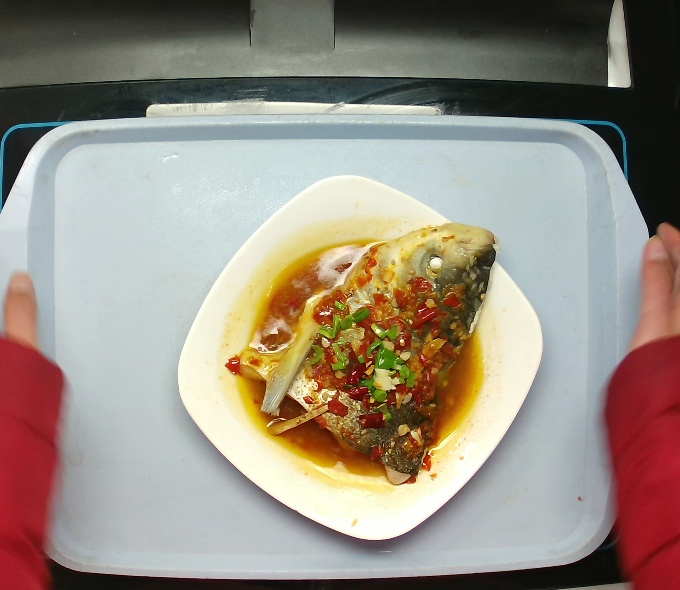wcq-DuoJiaoYuTou: (217, 212, 508, 499)
